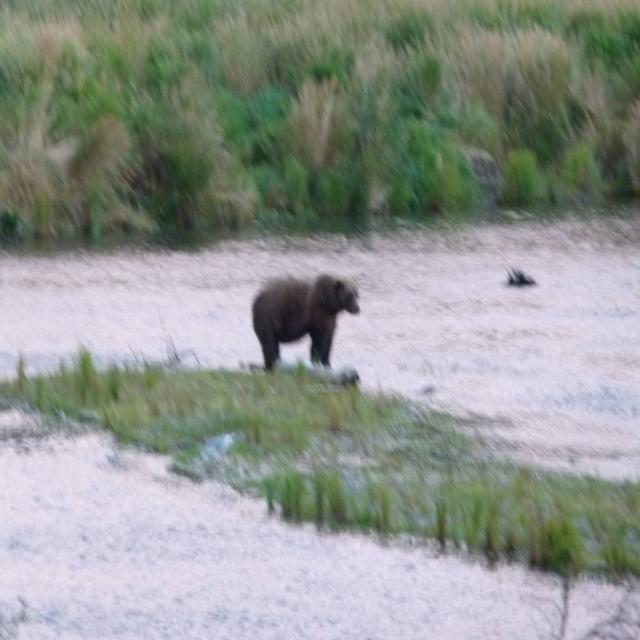bear face: (254, 277, 363, 372)
